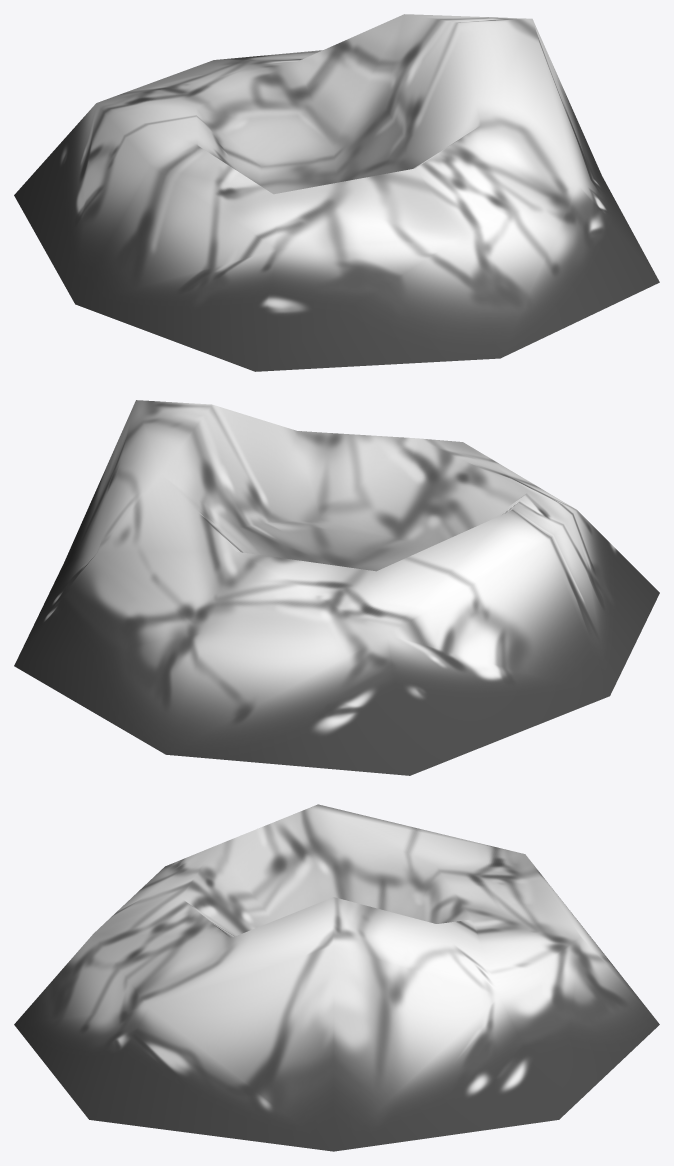
File: GroundCrack.fbx
3 renders of one model, top to bottom at view 1: azimuth 30°, elevation 25°; view 2: azimuth 150°, elevation 25°; view 3: azimuth 270°, elevation 25°, orthographic. The views are drawn at different scales.
Visible parts, largest first — view 1: Crack; view 2: Crack; view 3: Crack.
Part boxes in pixels (x1,y1,x2,y2): Crack: (14,14,659,371); Crack: (14,400,659,775); Crack: (14,804,659,1151).
Bounding box in the file's own units: 175 × 59.73 × 188.
1 material, 1 textured.
